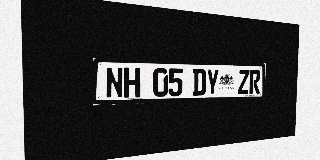0: (153, 68, 168, 97)
5: (168, 68, 183, 96)
D: (193, 69, 206, 96)
H: (124, 67, 140, 98)
N: (106, 67, 123, 98)
R: (249, 70, 260, 94)
Y: (206, 69, 219, 95)
Z: (238, 69, 249, 94)
